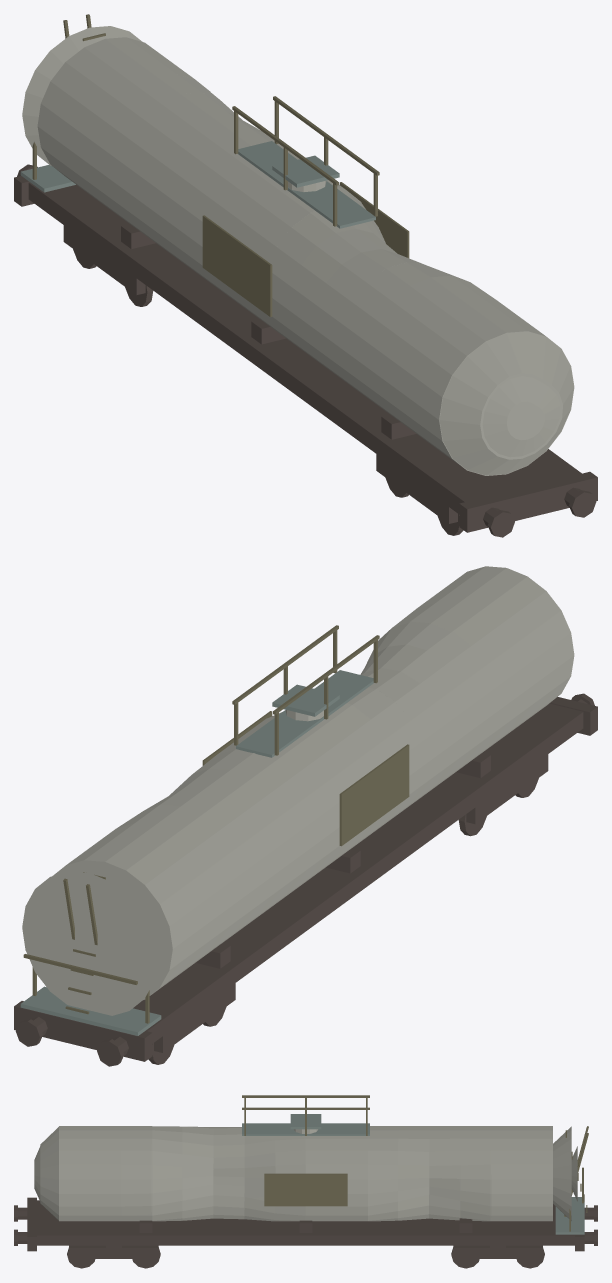
The model's file is SM_VagonCisterna_v3_Abollada_LOD0.fbx.
3 renders of one model, top to bottom at view 1: azimuth 30°, elevation 25°; view 2: azimuth 150°, elevation 25°; view 3: azimuth 270°, elevation 25°, orthographic. The views are drawn at different scales.
Visible parts, largest first — view 1: SM_bloques.vagon_cisterna_v3_LOD0; view 2: SM_bloques.vagon_cisterna_v3_LOD0; view 3: SM_bloques.vagon_cisterna_v3_LOD0.
Boxes of the visible parts, x1,y1,x2,y2 form: SM_bloques.vagon_cisterna_v3_LOD0: [14, 14, 597, 537]; SM_bloques.vagon_cisterna_v3_LOD0: [14, 566, 597, 1066]; SM_bloques.vagon_cisterna_v3_LOD0: [14, 1095, 597, 1268].
Size of the model in its own units: 3.08 by 5.33 by 18.24.
